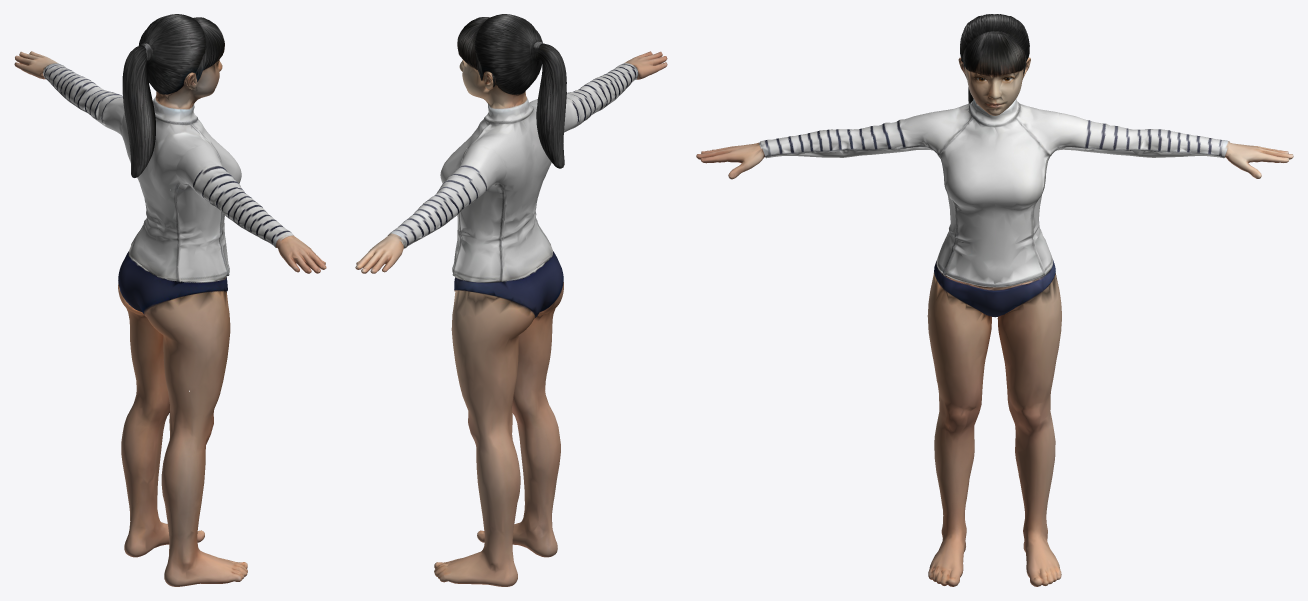
Rendered from the-zen.glb.
3 renders of one model, left to right at view 1: azimuth 30°, elevation 25°; view 2: azimuth 150°, elevation 25°; view 3: azimuth 270°, elevation 25°, orthographic.
Visible parts, largest first — view 1: the-zen; view 2: the-zen; view 3: the-zen.
Boxes of the visible parts, x1=… form: the-zen: x1=14, y1=14, x2=326, y2=586; the-zen: x1=355, y1=14, x2=667, y2=586; the-zen: x1=696, y1=14, x2=1293, y2=586.
Bounding box in the file's own units: 0.1976 × 0.9798 × 0.9678.
Materials: 1 (1 with a texture image).
